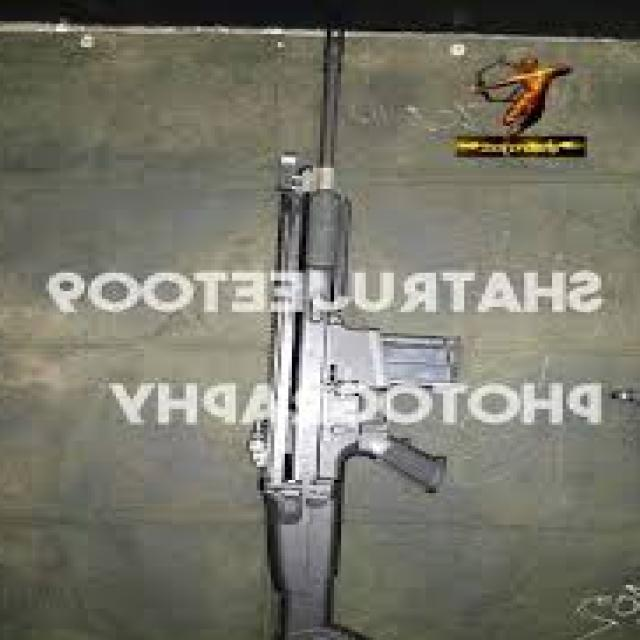Gun: (193, 26, 440, 640)
